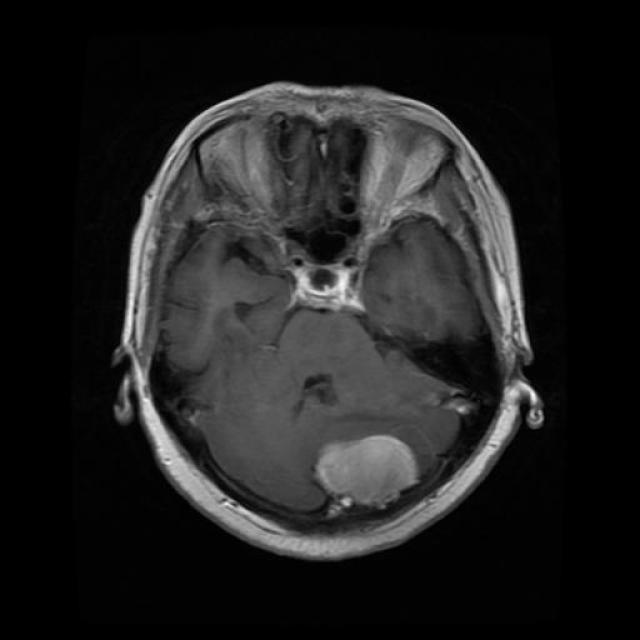meningioma: (315, 436, 419, 502)
